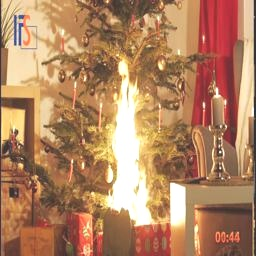fire: (87, 54, 172, 243)
